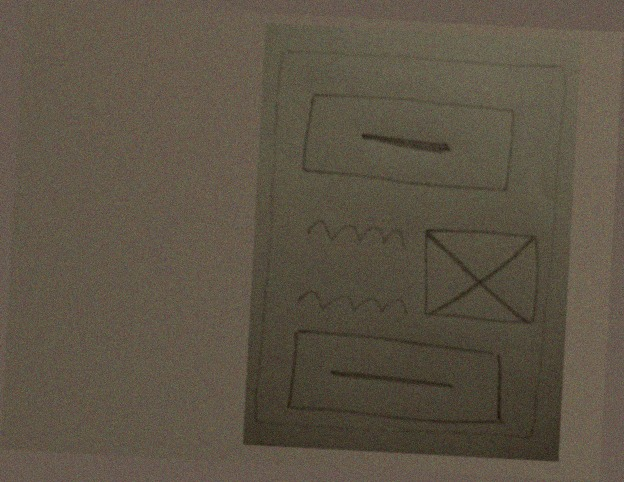button: (284, 319, 514, 432), (297, 84, 520, 197)
image: (414, 220, 545, 330)
text: (296, 208, 412, 258), (295, 283, 410, 325)
